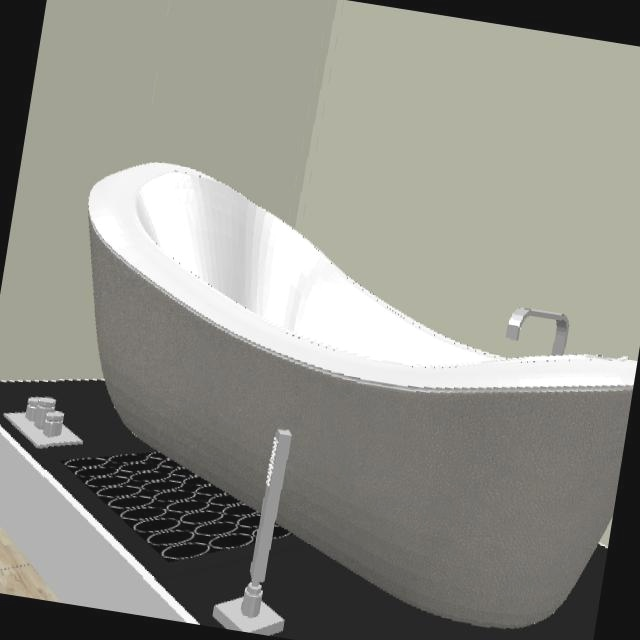bathtube: (86, 163, 637, 636)
